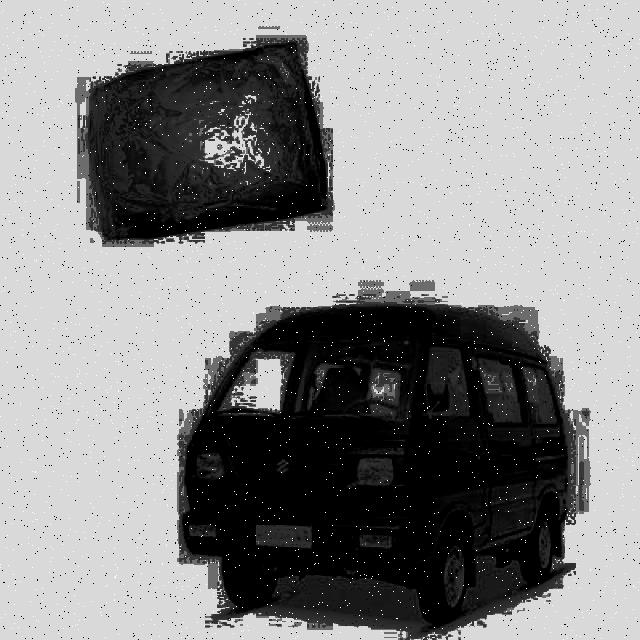LCV: (179, 304, 570, 624)
